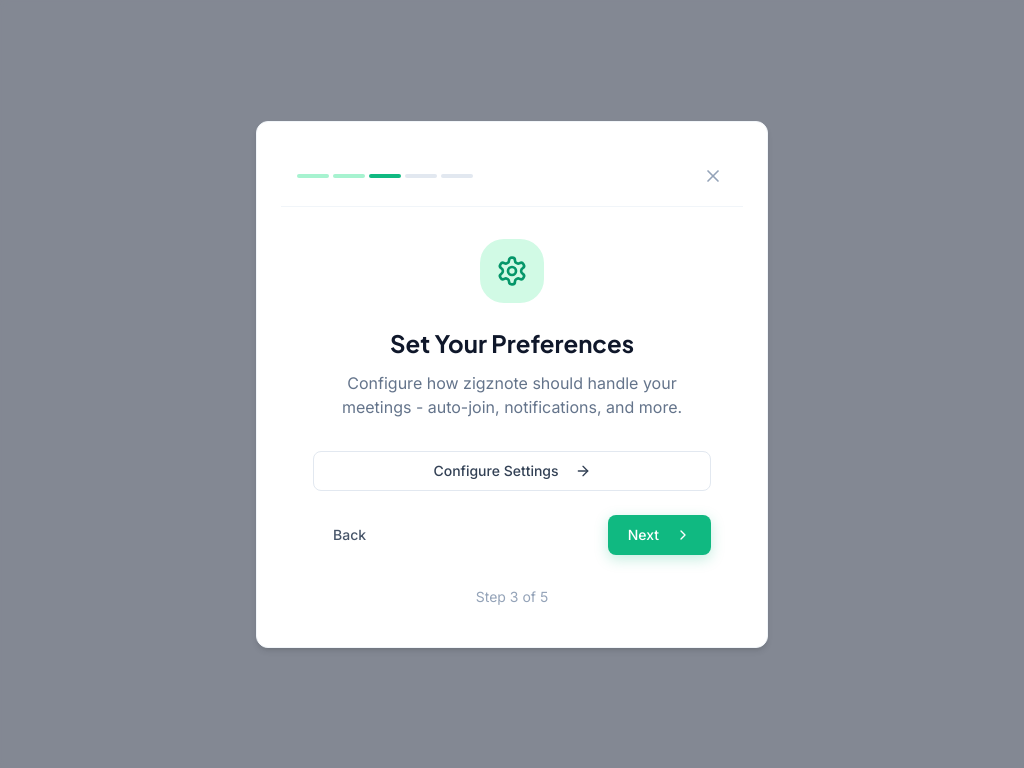
Test case: OnboardingWizard › should navigate back on Back click
Expected: the heading "Set Your Preferences" is shown, 390,328 -> 634,358
Click the button "Back": [350, 534] box 313,514 -> 386,554
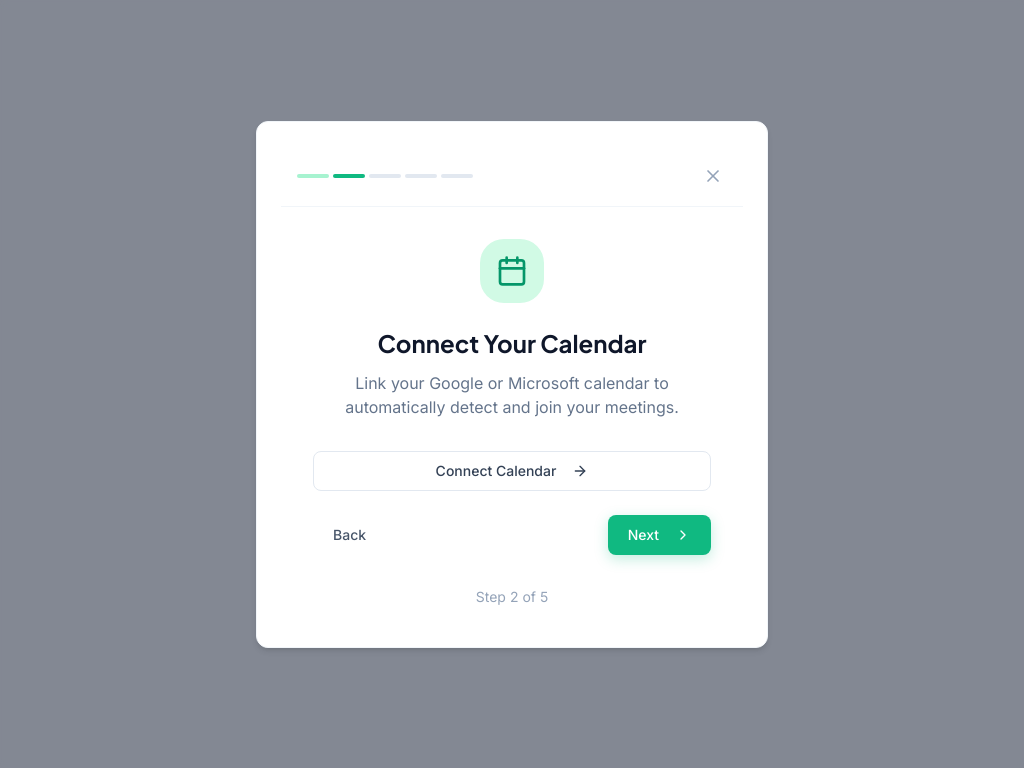
Now the heading "Connect Your Calendar" is shown, box 378,328 -> 646,358
